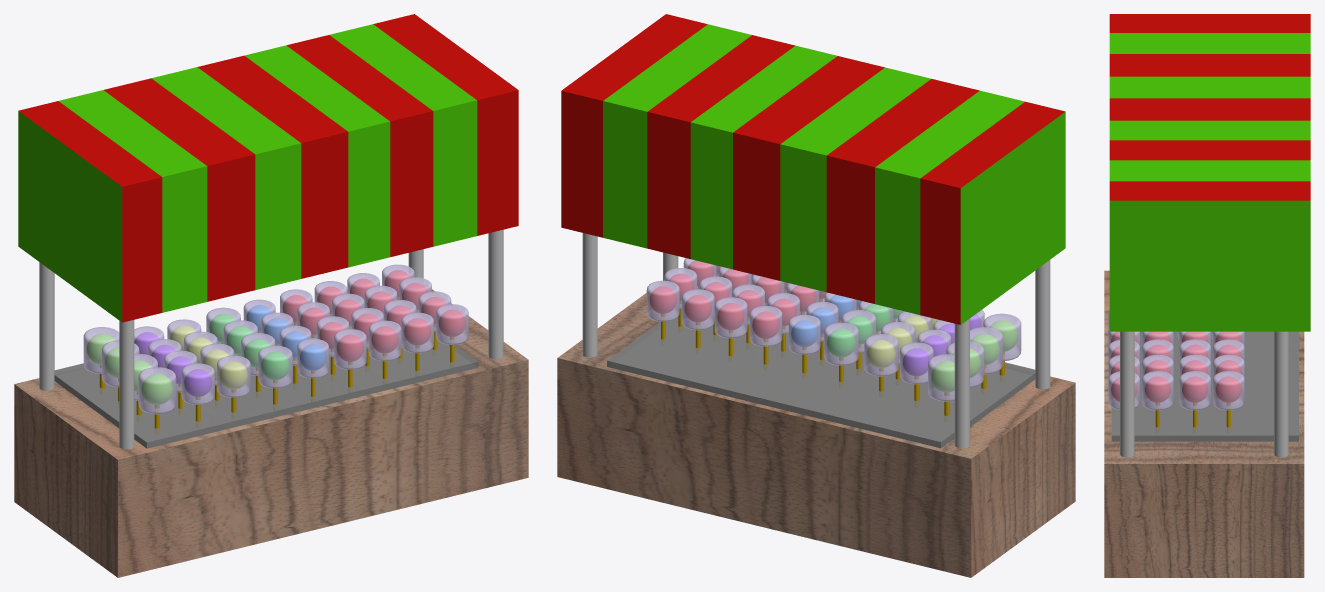
The model's file is Store_festival5.fbx.
3 renders of one model, left to right at view 1: azimuth 30°, elevation 25°; view 2: azimuth 150°, elevation 25°; view 3: azimuth 270°, elevation 25°, orthographic. The views are drawn at different scales.
Parts seen in each view (by area): view 1: obj1, obj3, obj5, obj9, obj2, obj8, obj24, obj22, obj13, obj15, obj16, obj19 (+12 smaller); view 2: obj1, obj3, obj5, obj2, obj9, obj8, obj15, obj18, obj7, obj12, obj24, obj21 (+2 smaller); view 3: obj1, obj3, obj5, obj2, obj9, obj7, obj8, obj6, obj4.
Boxes of the visible parts, x1,y1,x2,y2 form: obj1: (18, 14, 518, 322); obj3: (14, 289, 528, 577); obj5: (54, 340, 478, 448); obj9: (280, 281, 401, 392); obj2: (39, 229, 503, 449); obj8: (347, 273, 433, 376); obj24: (83, 327, 139, 401); obj22: (138, 367, 176, 432); obj13: (258, 345, 292, 409); obj15: (206, 307, 257, 356); obj16: (217, 355, 250, 417); obj19: (181, 363, 214, 426); obj1: (561, 14, 1065, 324); obj3: (557, 293, 1075, 577); obj5: (607, 317, 1035, 448); obj2: (582, 233, 1050, 448); obj9: (714, 274, 826, 370); obj8: (681, 266, 753, 348); obj15: (824, 310, 875, 384); obj18: (864, 322, 915, 391); obj7: (646, 268, 697, 339); obj12: (788, 301, 838, 378); obj24: (928, 341, 984, 415); obj21: (900, 329, 950, 400); obj1: (1109, 14, 1310, 331); obj3: (1104, 270, 1304, 577); obj5: (1111, 331, 1298, 441); obj2: (1120, 331, 1288, 457); obj9: (1108, 328, 1244, 362); obj7: (1179, 371, 1244, 428); obj8: (1108, 354, 1244, 378); obj6: (1142, 371, 1173, 432); obj4: (1108, 371, 1139, 409).
Bounding box in the file's own units: 259 × 234 × 117.
